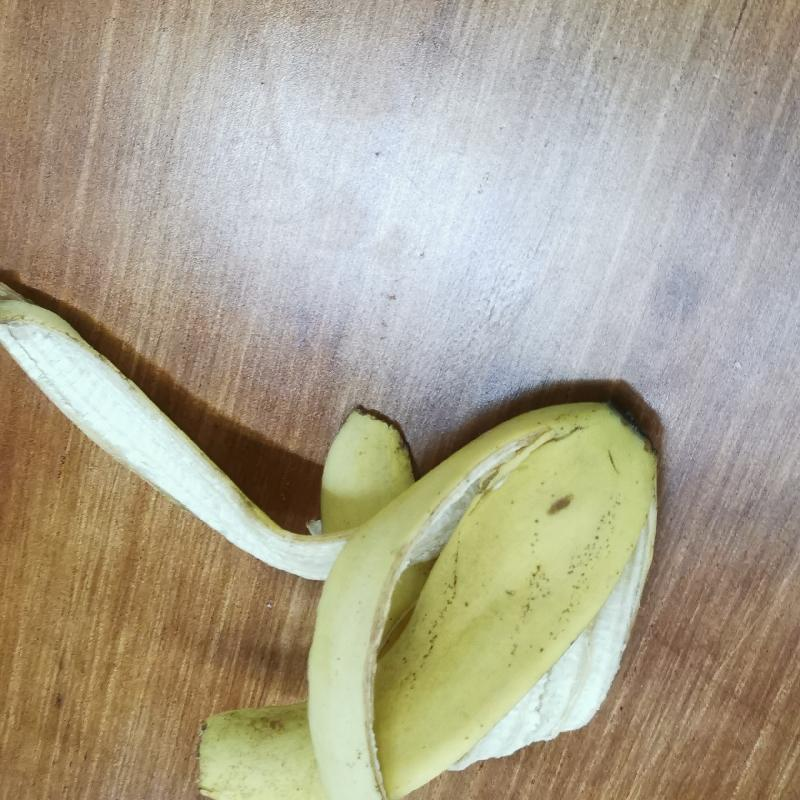bananas: (3, 249, 666, 800)
